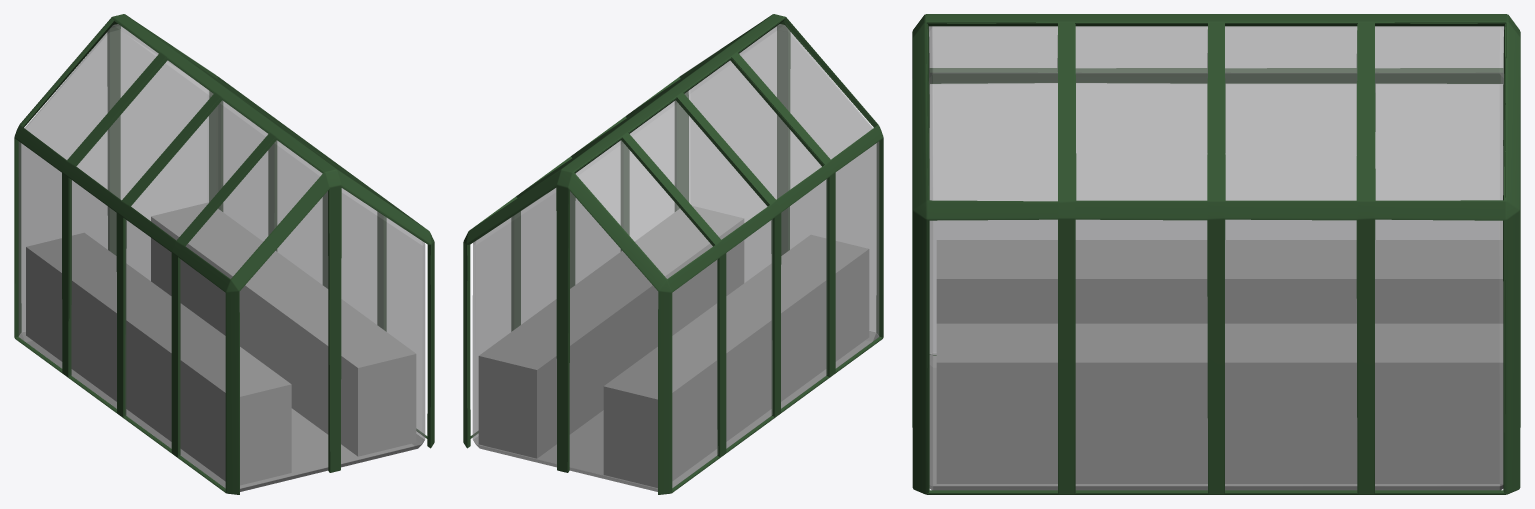
Rendered from greenhouse.fbx.
3 renders of one model, left to right at view 1: azimuth 30°, elevation 25°; view 2: azimuth 150°, elevation 25°; view 3: azimuth 270°, elevation 25°, orthographic. The views are drawn at different scales.
Visible parts, largest first — view 1: pCube139; view 2: pCube139; view 3: pCube139.
Part boxes in pixels (x1=…): pCube139: x1=14, y1=14, x2=434, y2=494; pCube139: x1=463, y1=14, x2=883, y2=494; pCube139: x1=912, y1=14, x2=1520, y2=494.
Size of the model in its own units: 2.42 by 3.35 by 4.46.
